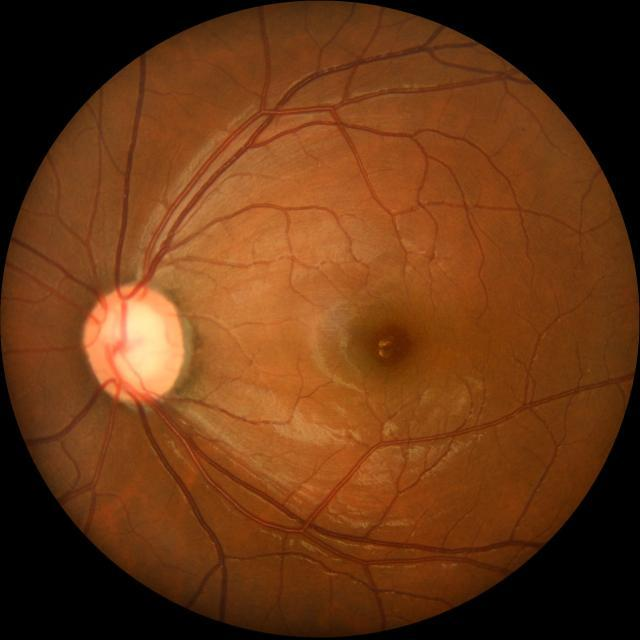OC: (100, 301, 168, 388)
OD: (84, 284, 185, 401)
